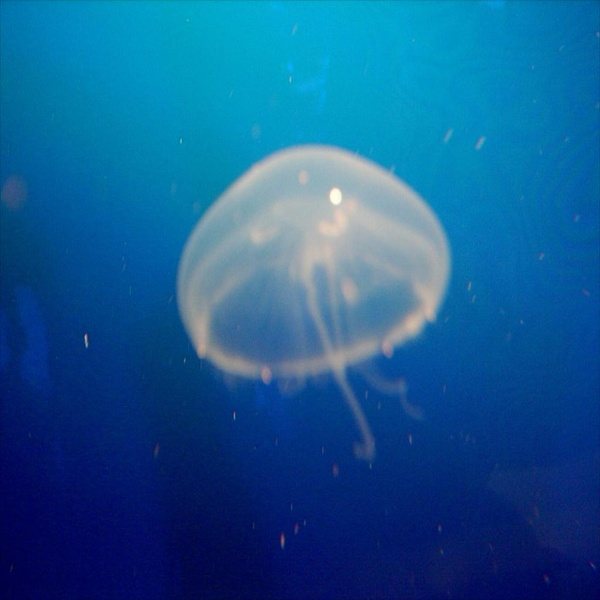Jellyfish: (168, 144, 456, 452)
